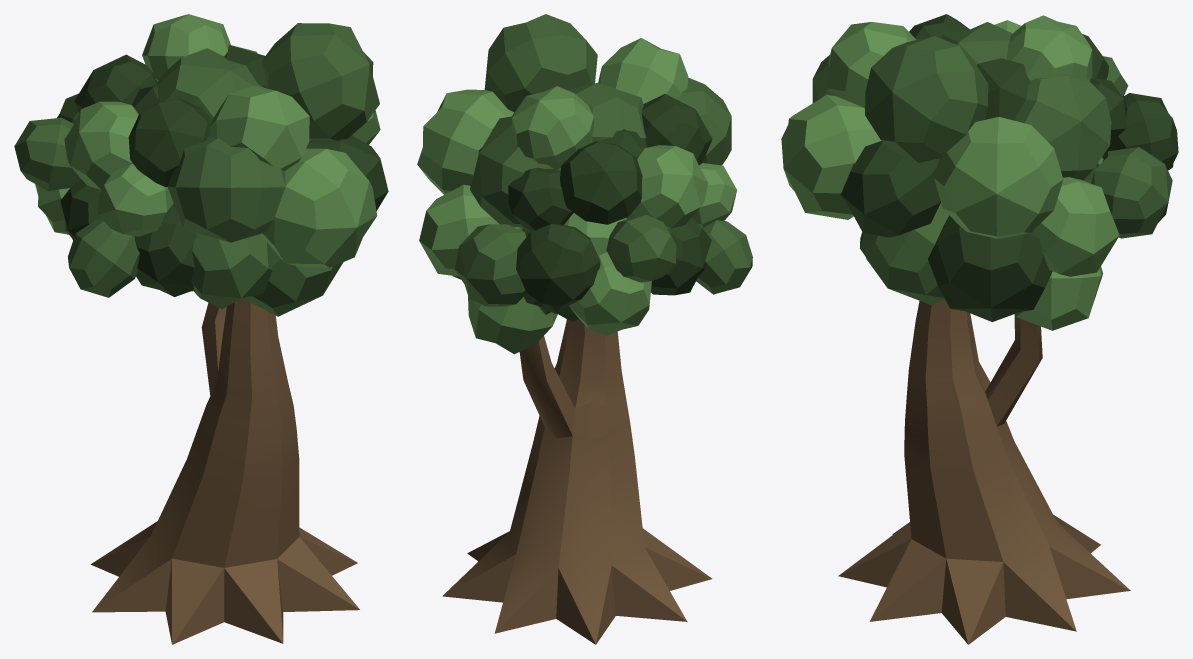
Rendered from arbre_1.fbx.
3 renders of one model, left to right at view 1: azimuth 30°, elevation 25°; view 2: azimuth 150°, elevation 25°; view 3: azimuth 270°, elevation 25°, orthographic. The views are drawn at different scales.
Visible parts, largest first — view 1: pCylinder48, polySurface85, polySurface100, polySurface72, polySurface92, polySurface80, polySurface95, polySurface99, polySurface74, polySurface98, polySurface89, polySurface79 (+8 smaller); view 2: pCylinder48, polySurface100, polySurface88, polySurface93, polySurface86, polySurface97, polySurface82, polySurface99, polySurface92, polySurface101, polySurface77, polySurface83 (+11 smaller); view 3: pCylinder48, polySurface88, polySurface100, polySurface78, polySurface85, polySurface81, polySurface101, polySurface83, polySurface82, polySurface75, polySurface97, polySurface92 (+7 smaller).
Part boxes in pixels (x1,y1,x2,y2): pCylinder48: (90,298,359,644); polySurface85: (261,148,377,267); polySurface100: (261,23,379,140); polySurface72: (167,136,285,242); polySurface92: (210,85,309,170); polySurface80: (191,233,272,309); polySurface95: (128,99,212,187); polySurface99: (64,101,138,189); polySurface74: (68,219,139,297); polySurface98: (155,48,263,119); polySurface89: (98,164,173,236); polySurface79: (134,206,197,296); pCylinder48: (442,319,712,644); polySurface100: (484,14,597,111); polySurface88: (417,89,513,194); polySurface93: (560,141,642,224); polySurface86: (516,223,600,306); polySurface97: (512,86,593,169); polySurface82: (454,224,526,306); polySurface99: (633,145,708,228); polySurface92: (598,38,688,103); polySurface101: (470,116,560,227); polySurface77: (569,252,651,335); polySurface83: (419,184,522,276); pCylinder48: (838,298,1130,644); polySurface88: (934,117,1063,238); polySurface100: (865,36,988,162); polySurface78: (928,215,1052,321); polySurface85: (781,94,881,219); polySurface81: (840,141,940,237); polySurface101: (1015,75,1111,180); polySurface83: (1033,177,1119,276); polySurface82: (1091,147,1172,238); polySurface75: (860,203,949,305); polySurface97: (1007,15,1092,81); polySurface92: (827,22,916,108).
Size of the model in its own units: 5.39 by 9.06 by 5.7.
